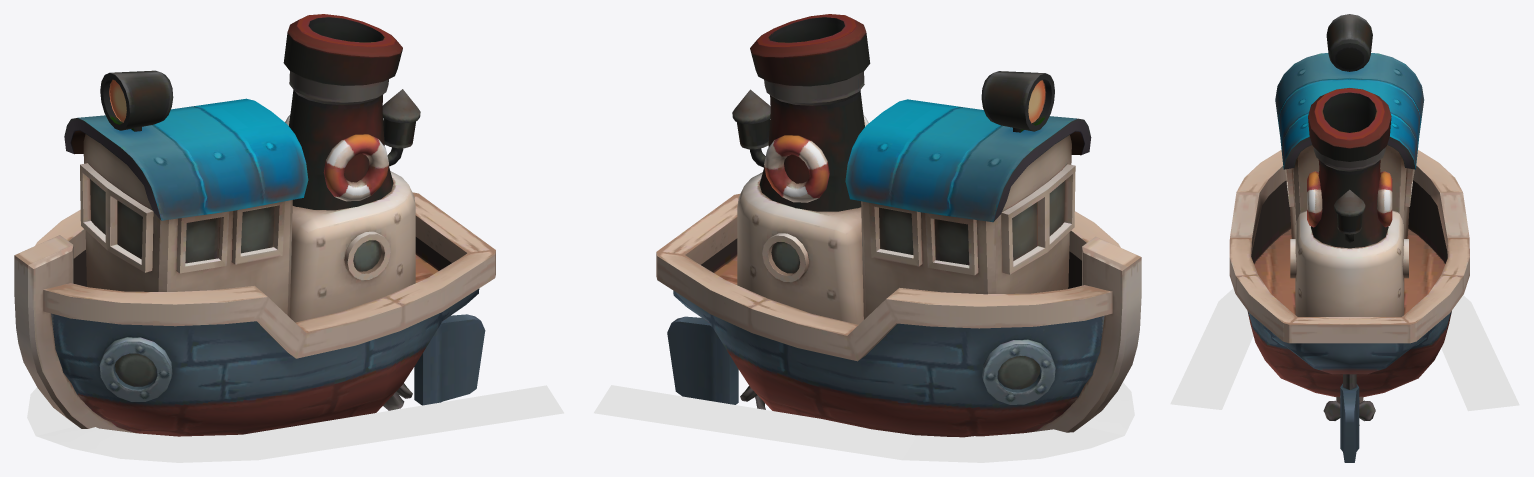
Rendered from TraderBoatLarge.fbx.
The picture shows the model from 3 angles, left to right: view 1: azimuth 30°, elevation 25°; view 2: azimuth 150°, elevation 25°; view 3: azimuth 270°, elevation 25°; orthographic projection. The views are drawn at different scales.
Parts seen in each view (by area): view 1: traderboat01, vfx_foam_front, rudder; view 2: traderboat01, vfx_foam_front, rudder; view 3: traderboat01, vfx_foam_front, rudder, propeller.
Part boxes in pixels (x1,y1,x2,y2): traderboat01: (14,14,495,436); vfx_foam_front: (27,385,563,462); rudder: (414,314,485,405); traderboat01: (656,14,1141,437); vfx_foam_front: (594,382,1134,462); rudder: (667,316,738,404); traderboat01: (1229,14,1469,403); vfx_foam_front: (1170,288,1519,411); rudder: (1340,374,1359,462); propeller: (1323,396,1375,425).
Bounding box in the file's own units: 4.76 × 3.98 × 4.
2 materials, 2 textured.
